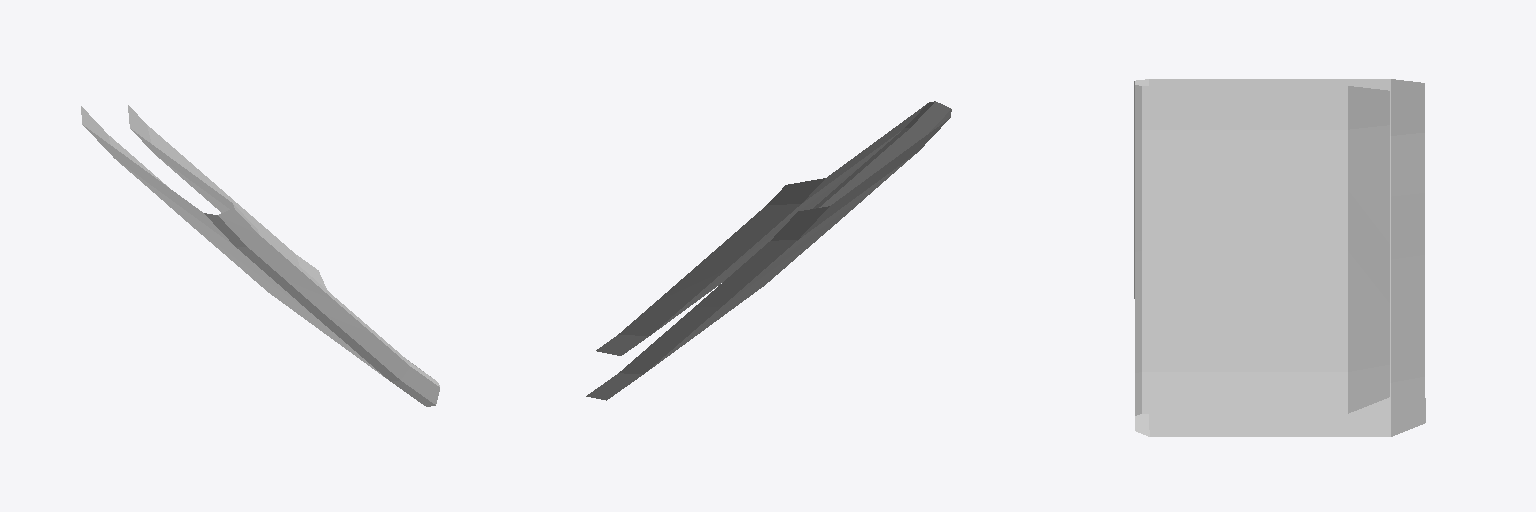
The model's file is basket002.obj.
3 views of the same model, side by side, from view 1: azimuth 30°, elevation 25°; view 2: azimuth 150°, elevation 25°; view 3: azimuth 270°, elevation 25° (orthographic).
Parts seen in each view (by area): view 1: basket.002; view 2: basket.002; view 3: basket.002.
Part boxes in pixels (x1,y1,x2,y2): basket.002: (81, 105, 439, 406); basket.002: (586, 101, 951, 400); basket.002: (1134, 79, 1425, 436).
Size of the model in its own units: 0.1501 by 0.1576 by 0.1605.